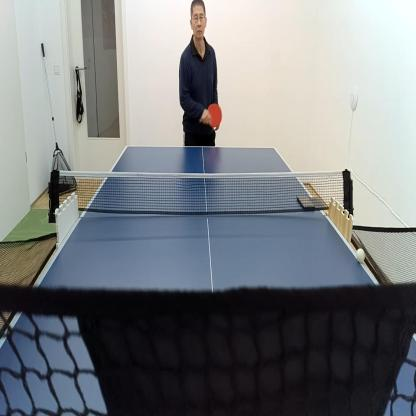Ball: (356, 248, 365, 262)
